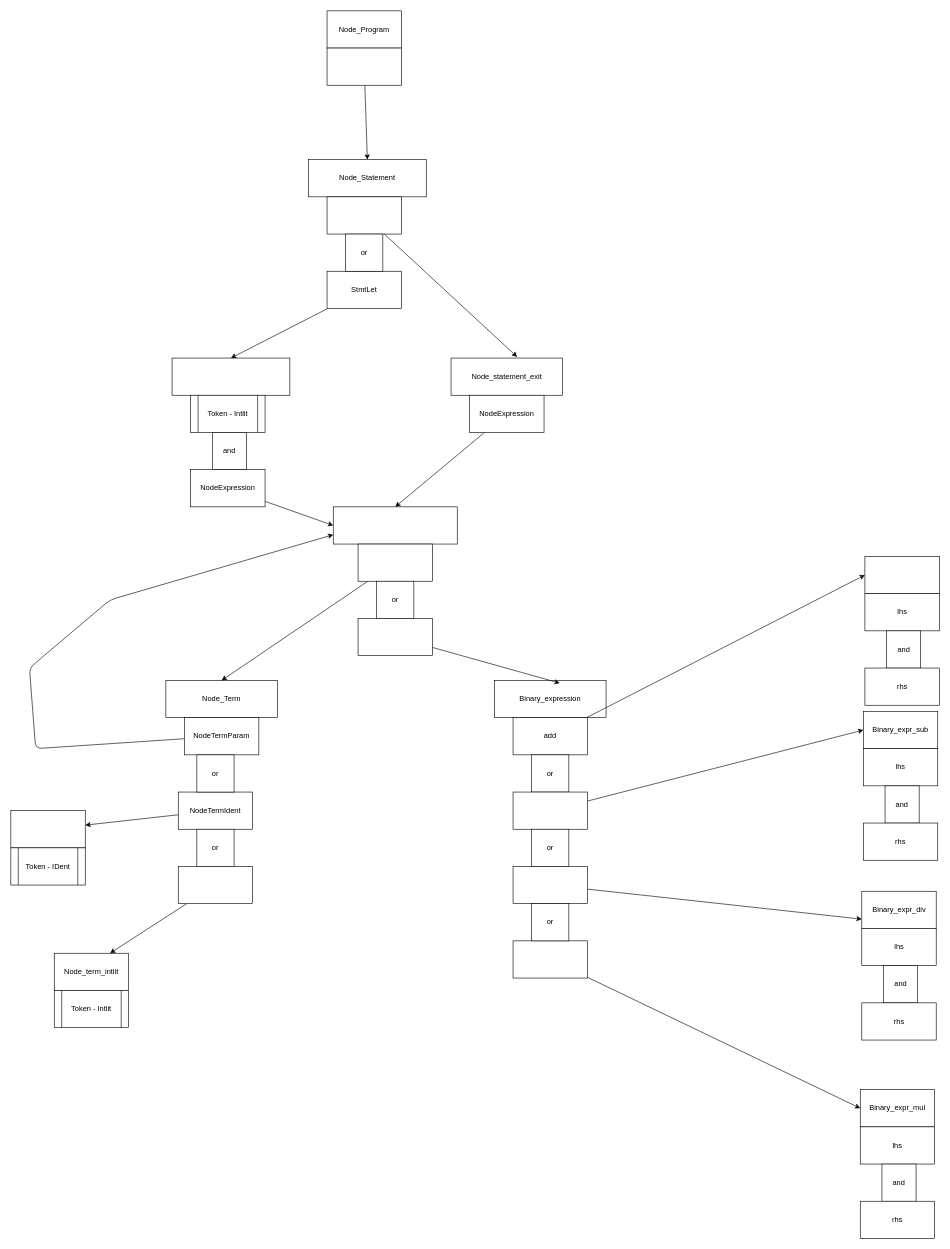
Image size: 950x1249. Some labels were removed from this diagram. Here are the shapes that lost their labels. From the top down, the box of each, then its label:
(326, 47, 401, 85): [stmt]
(326, 196, 401, 234): StmtExit
(171, 357, 290, 395): Node_Stmt_let
(333, 506, 457, 544): Node_expression
(357, 543, 432, 581): NodeTerm
(864, 556, 939, 594): Binary_expr_add
(357, 618, 432, 656): BinExpression
(10, 810, 85, 848): Node_term_ident
(512, 791, 587, 829): sub
(178, 866, 253, 904): NodeTermIntLit
(512, 866, 587, 904): div
(512, 940, 587, 978): mul
